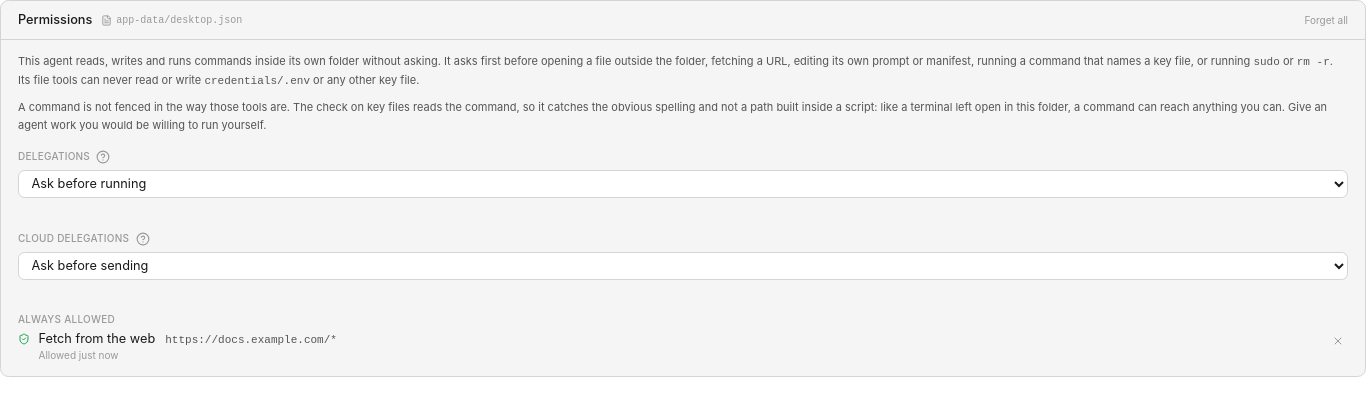
PermissionsCard › keeps a refusal on screen after the row that raised it is gone
Click the button named "Forget permission to fetch from the web" at (1338, 341), box [1328,331,1348,352]
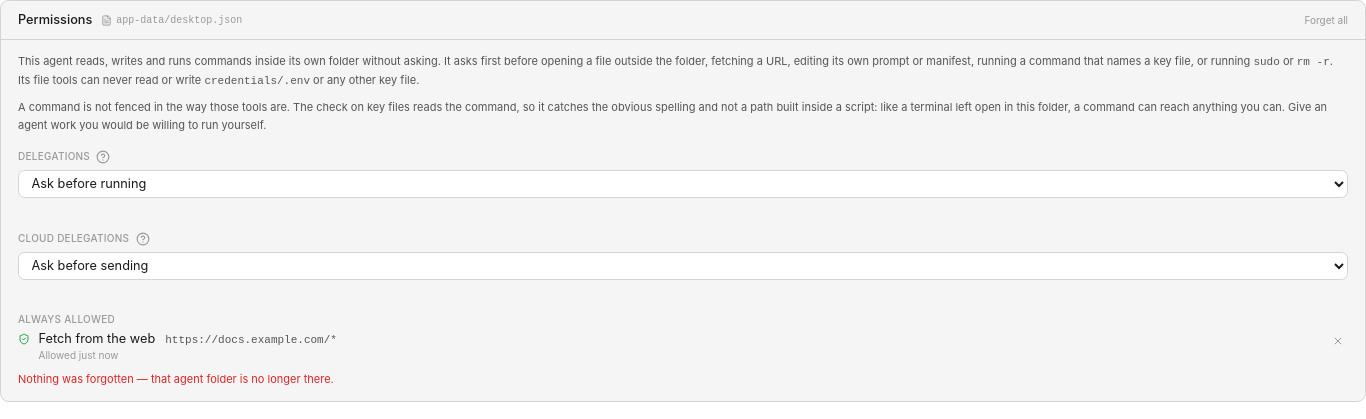
expect the text "Nothing was forgotten — that agent folder is no longer there." is shown: met, box [18,372,334,386]
